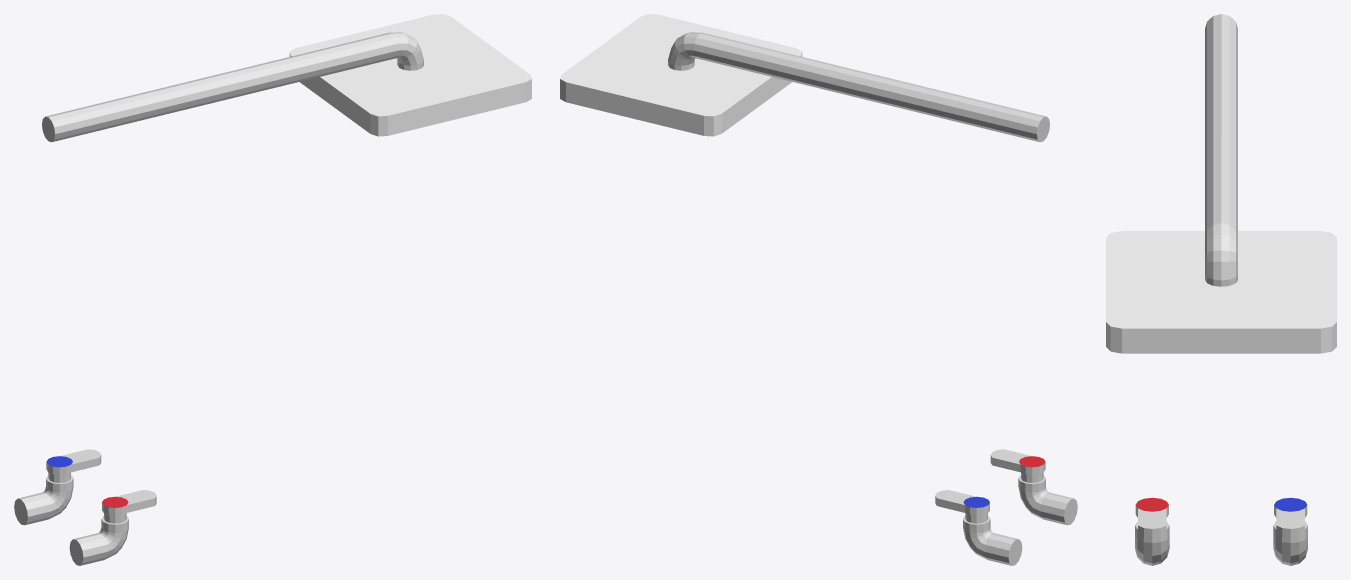
Rendered from Shower.fbx.
3 renders of one model, left to right at view 1: azimuth 30°, elevation 25°; view 2: azimuth 150°, elevation 25°; view 3: azimuth 270°, elevation 25°, orthographic. The views are drawn at different scales.
Visible parts, largest first — view 1: Cube, Cylinder, Cylinder.002, Cylinder.001; view 2: Cube, Cylinder, Cylinder.001, Cylinder.002; view 3: Cube, Cylinder, Cylinder.001, Cylinder.002.
Boxes of the visible parts, x1,y1,x2,y2 form: Cube: (289, 14, 531, 136); Cylinder: (42, 32, 423, 142); Cylinder.002: (14, 449, 101, 525); Cylinder.001: (69, 490, 156, 565); Cube: (560, 14, 802, 136); Cylinder: (668, 32, 1049, 142); Cylinder.001: (990, 449, 1077, 525); Cylinder.002: (935, 490, 1022, 565); Cube: (1106, 231, 1336, 353); Cylinder: (1205, 14, 1237, 286); Cylinder.001: (1135, 497, 1169, 565); Cylinder.002: (1273, 497, 1307, 565).
Bounding box in the file's own units: 552 × 510 × 200.
